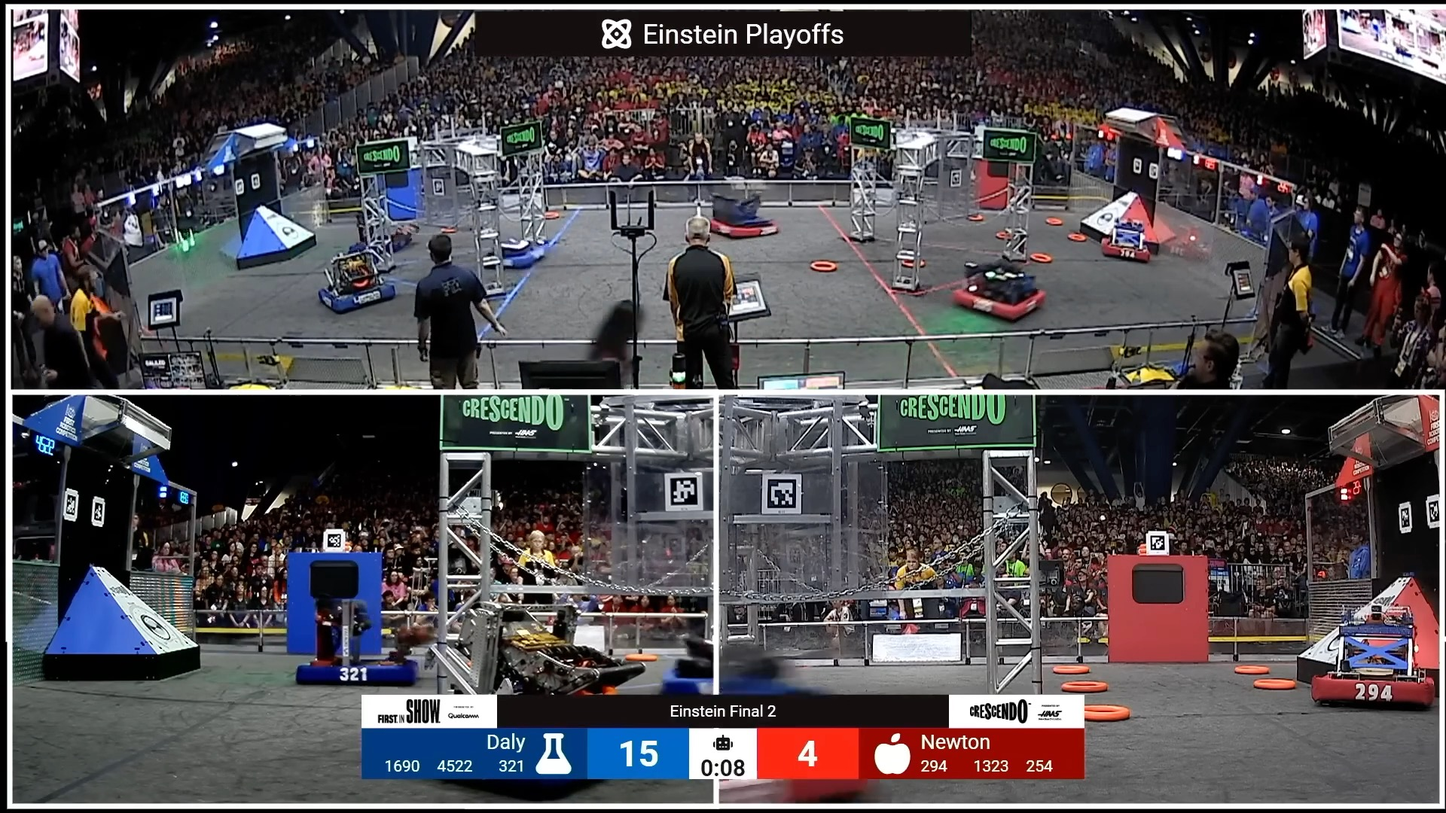bumpers: (944, 275, 1055, 326), (1308, 670, 1437, 711), (287, 657, 424, 689), (308, 277, 407, 319), (690, 207, 787, 245), (472, 240, 559, 277), (1100, 237, 1156, 265), (355, 236, 417, 256)
